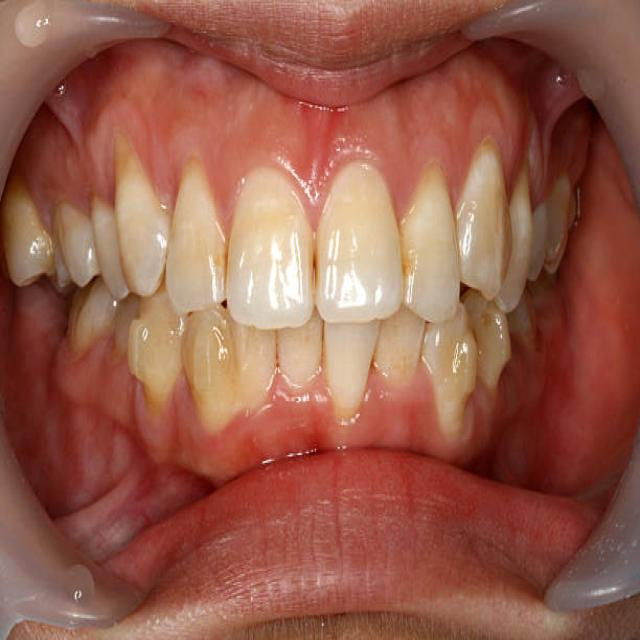swelling: (288, 164, 340, 246)
